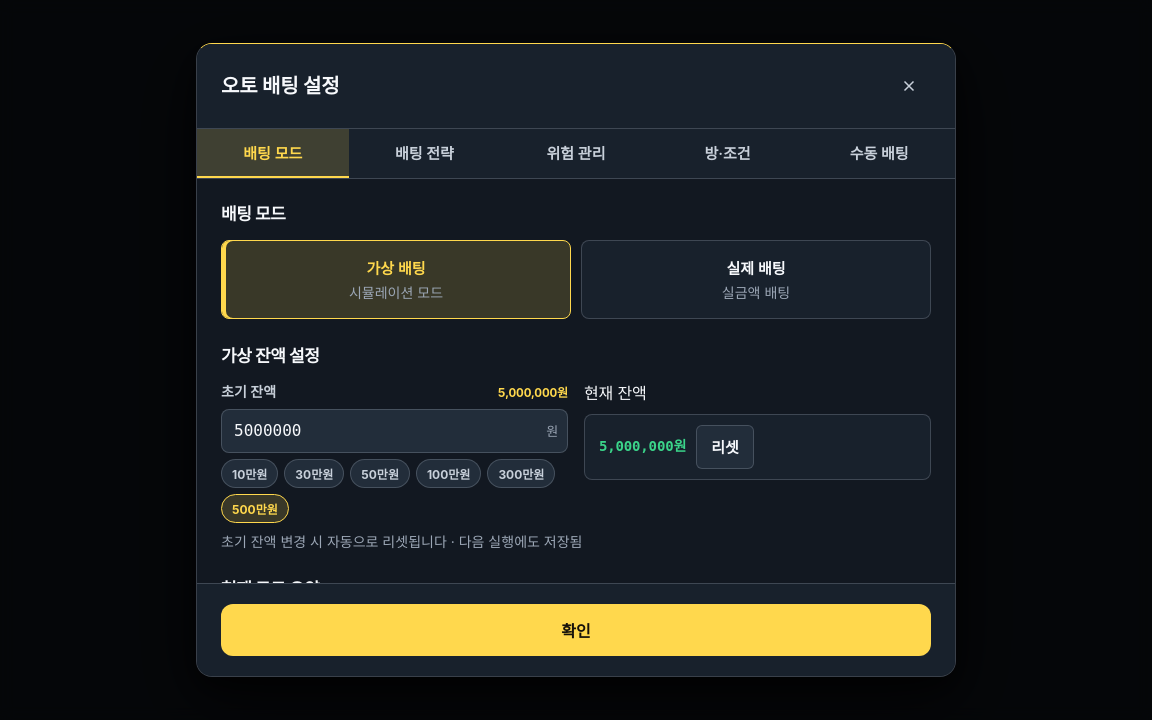
Test case: AutoModeSettingsDialog — 계정 동시배팅 상한 › 상한이 없으면(미주입) 기존 칩 그대로 — 제한 없음 + 1/3/6/10, max 없음
What coordinates should you click on to do the following:
click the button "배팅 전략"
I would click on:
 (424, 154)
Its box is x1=349 y1=129 x2=500 y2=178.
(page scrolled)
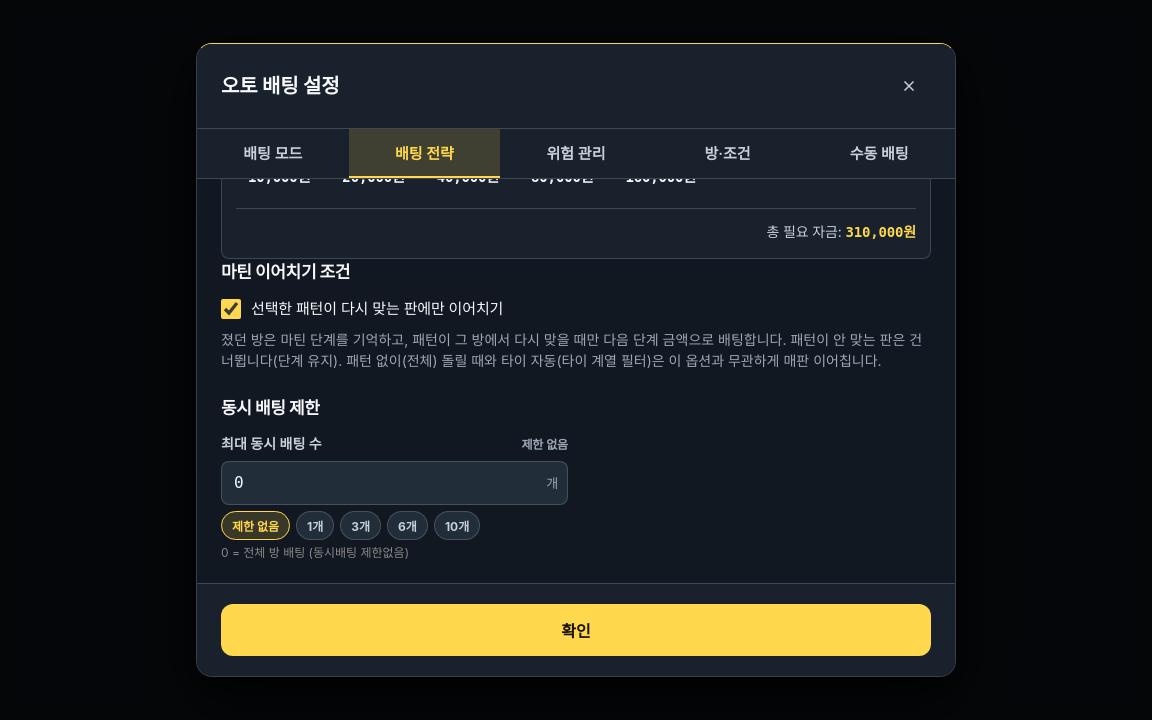
Now the button "제한 없음" is shown, box x1=221 y1=511 x2=290 y2=540
Now the button "1개" is shown, box x1=296 y1=511 x2=334 y2=540
Now the button "3개" is shown, box x1=340 y1=511 x2=381 y2=540
